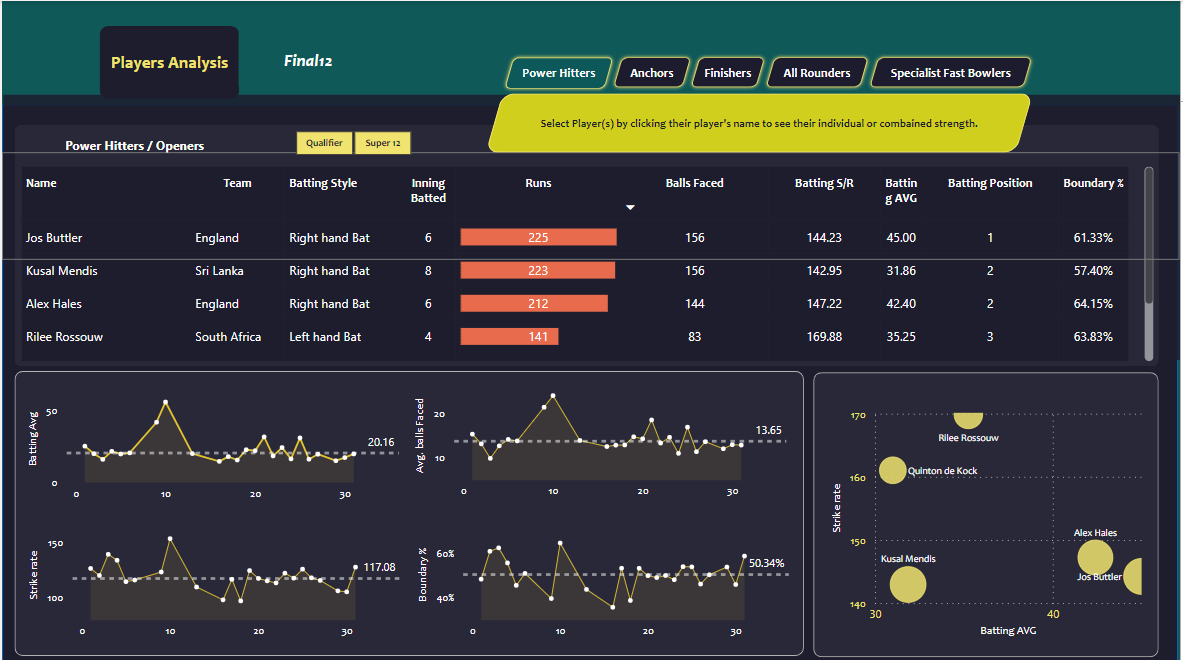

What the dashboard file says about the page in this screenshot:
{"tool":"powerbi","page":{"name":"Power Hitters /  Openerss","canvas":[1280,720],"ordinal":0},"visuals":[{"type":"shape","box":[0,113.3,1277.5,606.7],"z":0},{"type":"shape","box":[881.8,403.1,375.1,309.9],"z":1000},{"type":"shape","box":[2,102,1278.9,288.3],"z":2000},{"type":"shape","box":[13.7,134.2,1243.4,262.1],"z":3000},{"type":"tableEx","title":"Shortlisted candidates based on parameters","fields":{"Values":["dim_players.name","dim_players.team","dim_players.battingStyle","Key_Measures.Total Inning Batted","Key_Measures.Total Runs","Key_Measures.total balls faced","Key_Measures.Strike rate","Key_Measures.Batting Avg","Key_Measures.Batting Position","Key_Measures.Boundary %"]},"box":[15.3,175.2,1240.7,221.4],"z":4000},{"type":"shape","box":[0,164.4,1279,117],"z":5000},{"type":"scatterChart","fields":{"Category":["dim_players.name"],"X":["Key_Measures.Batting Avg"],"Y":["Key_Measures.Strike rate"],"Size":["Key_Measures.Total Runs"]},"box":[896.6,434.5,353.6,261],"z":6000},{"type":"slicer","fields":{"Values":["dim_match_summary.Stage"]},"box":[293.6,134.6,175.3,39.4],"z":7000},{"type":"shape","box":[38.1,140,212,32.6],"z":8000},{"type":"shape","box":[525.5,100.6,594.4,64.2],"z":9000},{"type":"card","fields":{"Values":["Key_Measures.Batting Avg"]},"box":[714.7,107.9,99.7,56],"z":10000},{"type":"card","fields":{"Values":["Key_Measures.Strike rate"]},"box":[813.4,109.6,84.7,56],"z":11000},{"type":"card","fields":{"Values":["Key_Measures.Avg. balls Faced"]},"box":[898.4,109.3,97.6,56],"z":12000},{"type":"card","fields":{"Values":["Key_Measures.Boundary %"]},"box":[992.7,106.8,95.1,55.7],"z":13000},{"type":"shape","box":[538.2,110.1,180.8,32.6],"z":14000},{"type":"shape","box":[13.6,402.3,857.9,309.9],"z":15000},{"type":"actionButton","box":[541.3,56.8,126.4,42],"z":16000},{"type":"actionButton","box":[659.9,57.3,92.4,41],"z":17000},{"type":"actionButton","box":[744.6,57.3,89.2,41],"z":18000},{"type":"actionButton","box":[826,57.3,119.6,41],"z":19000},{"type":"actionButton","box":[937.8,57.3,184.8,41],"z":20000},{"type":"areaChart","fields":{"Y":["Key_Measures.Batting Avg"],"Category":["dim_match_summary.matchDate.Variation.Date Hierarchy.Day"]},"box":[23.1,414.5,413.2,138.1],"z":21000},{"type":"areaChart","fields":{"Y":["Key_Measures.Avg. balls Faced"],"Category":["dim_match_summary.matchDate.Variation.Date Hierarchy.Day"]},"box":[444.2,410.4,413.2,138.6],"z":22000},{"type":"areaChart","fields":{"Y":["Key_Measures.Boundary %"],"Category":["dim_match_summary.matchDate.Variation.Date Hierarchy.Day"]},"box":[447.4,562.4,413.2,138.6],"z":23000},{"type":"areaChart","fields":{"Y":["Key_Measures.Strike rate"],"Category":["dim_match_summary.matchDate.Variation.Date Hierarchy.Day"]},"box":[24.2,562.4,413.2,138.6],"z":24000},{"type":"actionButton","box":[106,27.2,152.2,78.8],"z":25000},{"type":"actionButton","box":[256.9,27.7,152.2,72.8],"z":26000},{"type":"shape","box":[528.5,116.4,588.5,32.6],"z":27000}]}

Visuals, with their boxes in screenshot pixels (x1, y1, x2, y2), scaled from the page's 1280x720 canvas onto the 1185x660 screenshot:
shape: bbox=[0, 104, 1183, 659]
shape: bbox=[816, 370, 1164, 654]
shape: bbox=[2, 94, 1184, 358]
shape: bbox=[13, 123, 1164, 363]
"Shortlisted candidates based on parameters" tableEx: bbox=[14, 161, 1163, 364]
shape: bbox=[0, 151, 1184, 258]
scatterChart - dim_players.name x Key_Measures.Batting Avg: bbox=[830, 398, 1157, 638]
slicer - dim_match_summary.Stage: bbox=[272, 123, 434, 160]
shape: bbox=[35, 128, 232, 158]
shape: bbox=[486, 92, 1037, 151]
card - Key_Measures.Batting Avg: bbox=[662, 99, 754, 150]
card - Key_Measures.Strike rate: bbox=[753, 100, 831, 152]
card - Key_Measures.Avg. balls Faced: bbox=[832, 100, 922, 152]
card - Key_Measures.Boundary %: bbox=[919, 98, 1007, 149]
shape: bbox=[498, 101, 666, 131]
shape: bbox=[13, 369, 807, 653]
actionButton: bbox=[501, 52, 618, 91]
actionButton: bbox=[611, 53, 696, 90]
actionButton: bbox=[689, 53, 772, 90]
actionButton: bbox=[765, 53, 875, 90]
actionButton: bbox=[868, 53, 1039, 90]
areaChart - Key_Measures.Batting Avg x dim_match_summary.matchDate.Variation.Date Hierarchy.Day: bbox=[21, 380, 404, 507]
areaChart - Key_Measures.Avg. balls Faced x dim_match_summary.matchDate.Variation.Date Hierarchy.Day: bbox=[411, 376, 794, 503]
areaChart - Key_Measures.Boundary % x dim_match_summary.matchDate.Variation.Date Hierarchy.Day: bbox=[414, 516, 797, 643]
areaChart - Key_Measures.Strike rate x dim_match_summary.matchDate.Variation.Date Hierarchy.Day: bbox=[22, 516, 405, 643]
actionButton: bbox=[98, 25, 239, 97]
actionButton: bbox=[238, 25, 379, 92]
shape: bbox=[489, 107, 1034, 137]
